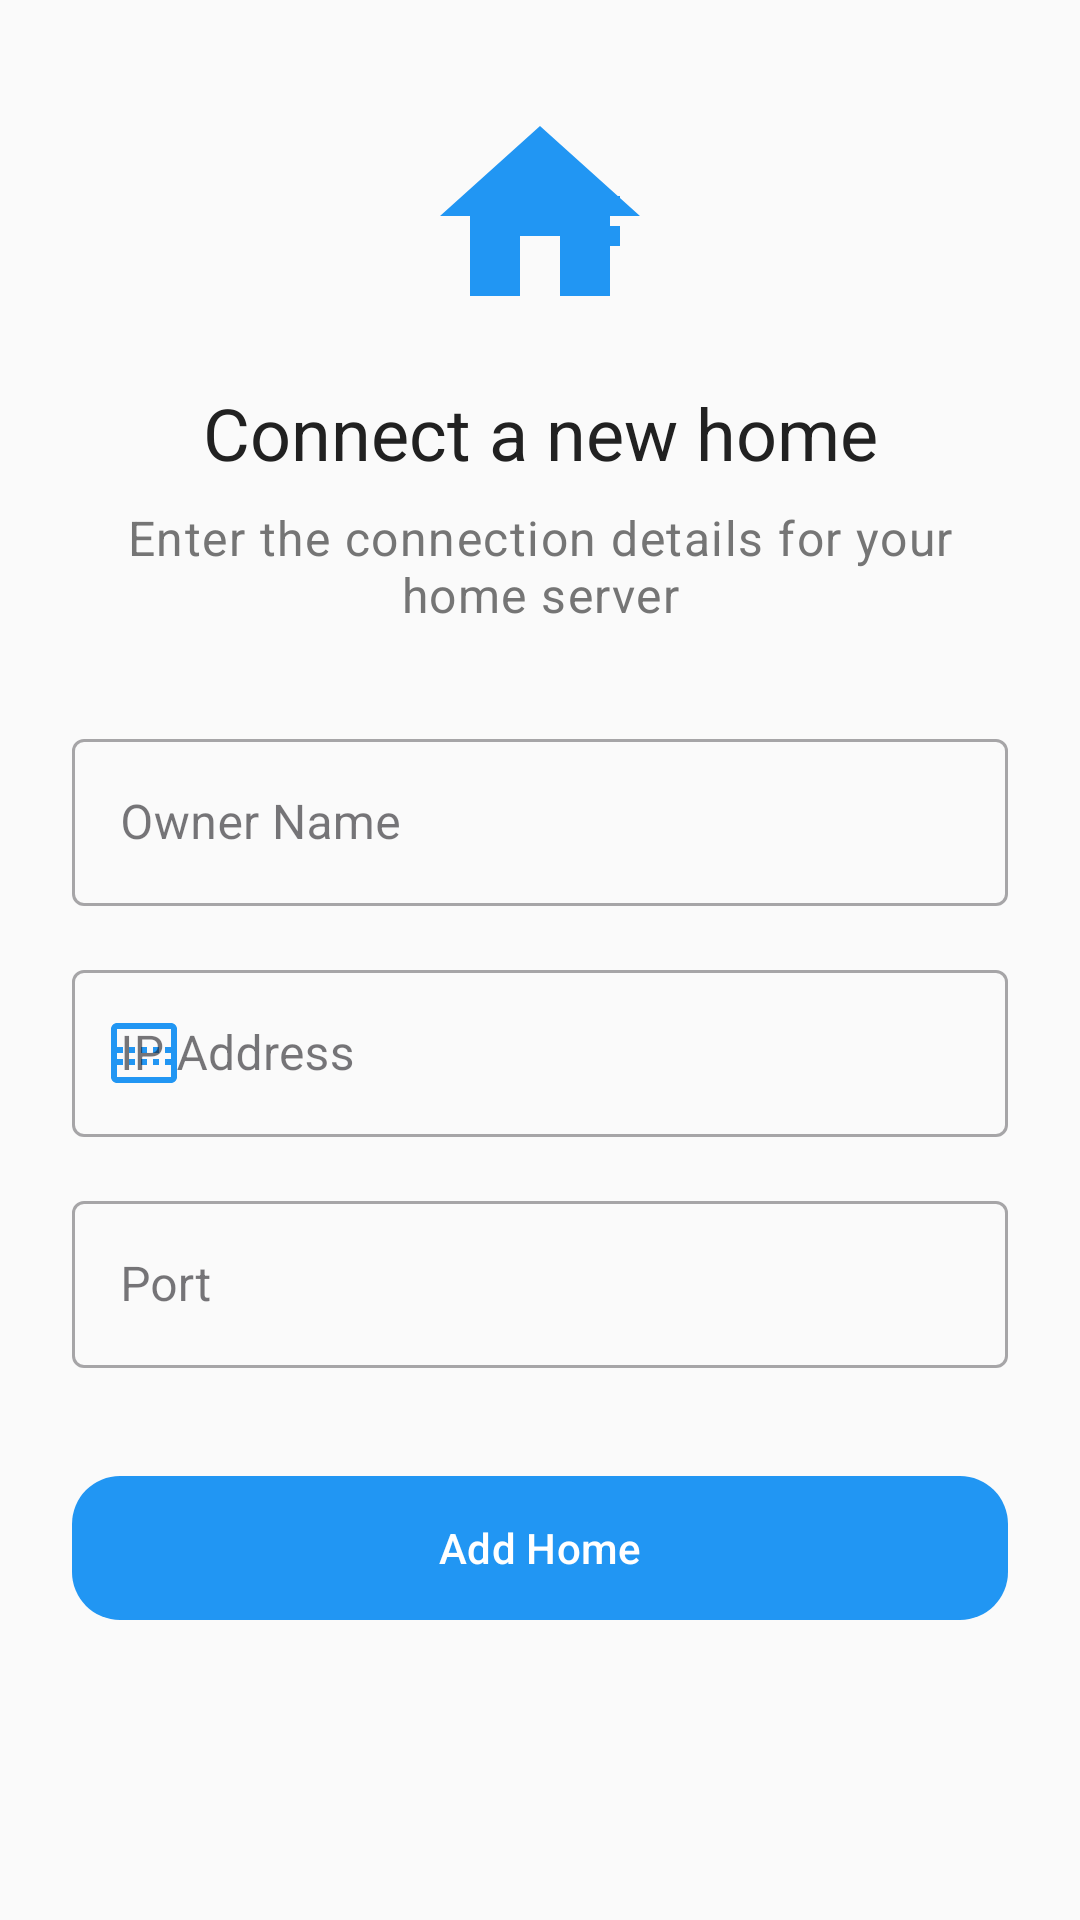

Where icons sit on this 1080w x 1920h app screen, as [x1=x1, y1=y1, x2=x2, y2=y2]:
add home: [x1=440, y1=126, x2=640, y2=296]
